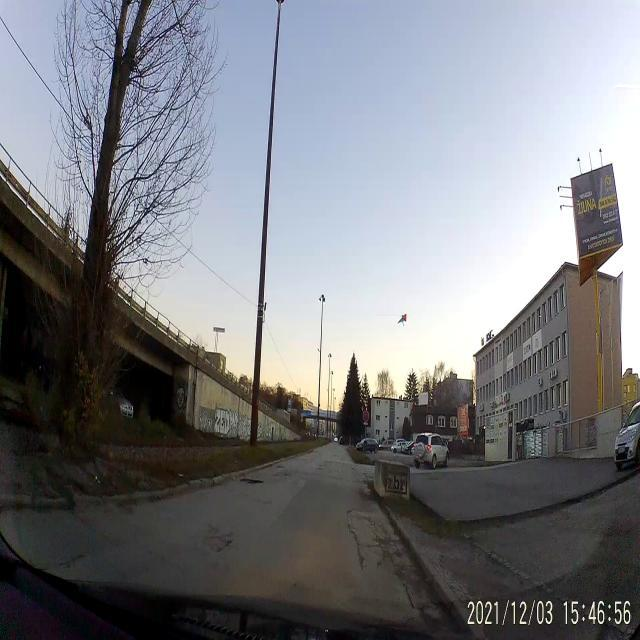Pothole: (207, 533, 234, 555), (236, 476, 266, 488), (315, 460, 325, 472), (280, 472, 295, 479), (272, 470, 282, 480), (274, 462, 286, 470)
